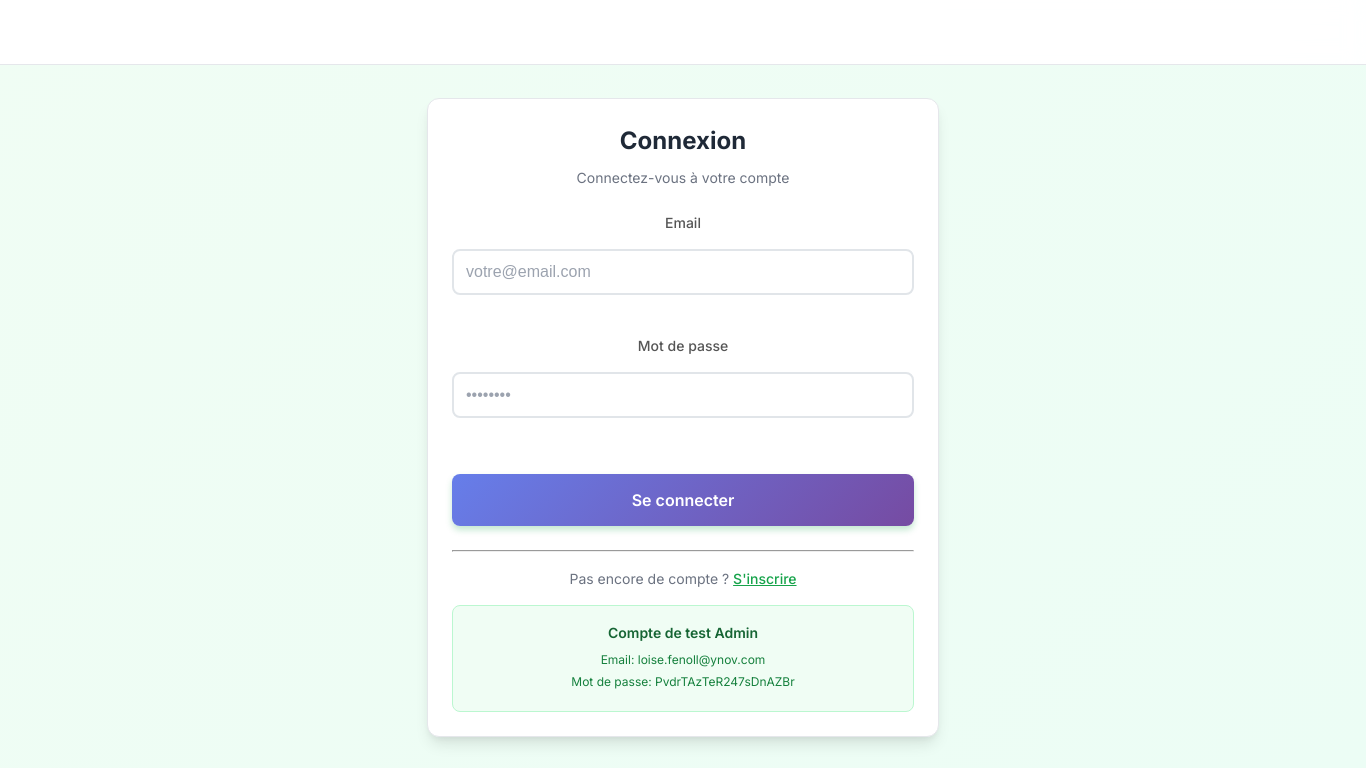
Scenario: Tests de gestion des utilisateurs › Tests avec backend disponible › Gestion des erreurs › Devrait gérer les erreurs de chargement des utilisateurs
Expected: the heading "Connexion" is shown, [620,126,746,154]
Se connecter en tant qu'admin
In the field with id "login-email": (683,272) [452,249,914,295], type "loise.fenoll@ynov.com"
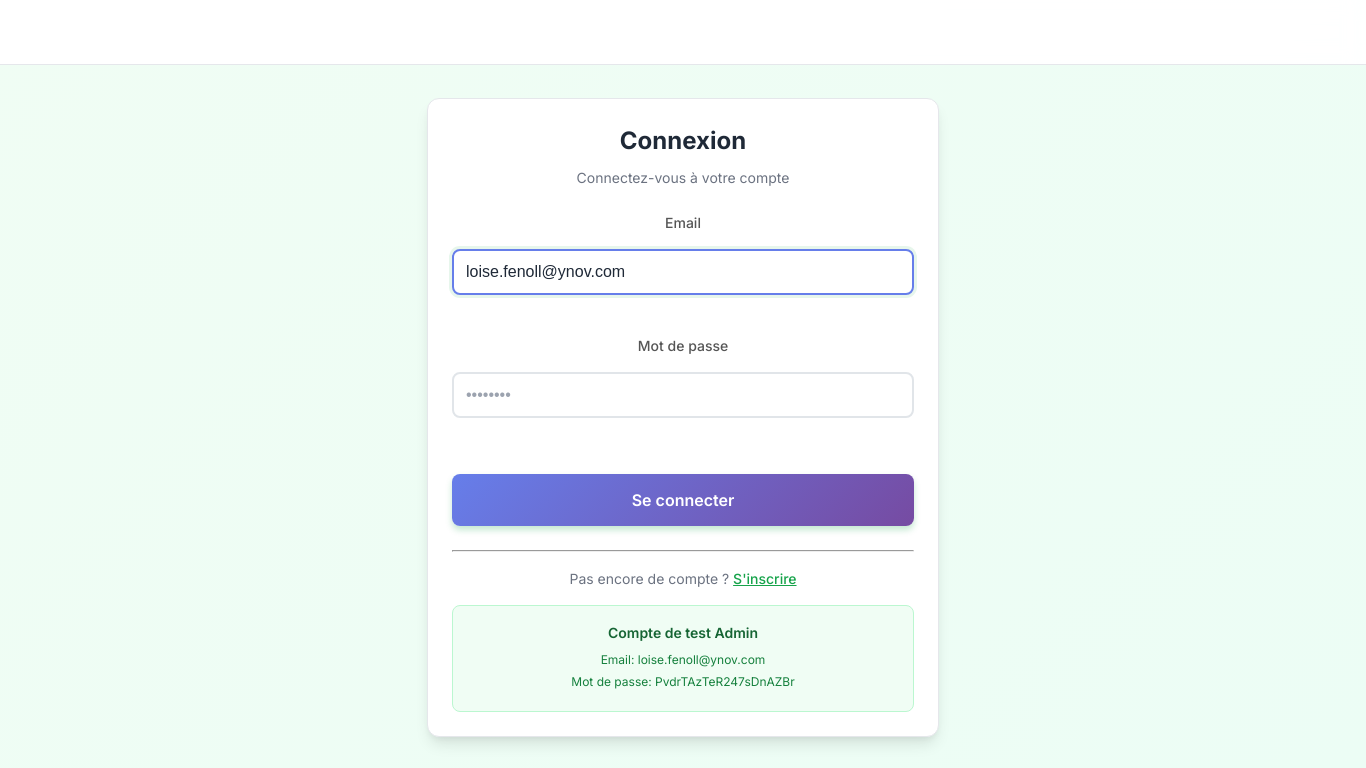
In the password field with id "login-password": (683,395) [452,372,914,418], type "PvdrTAzTeR247sDnAZBr"
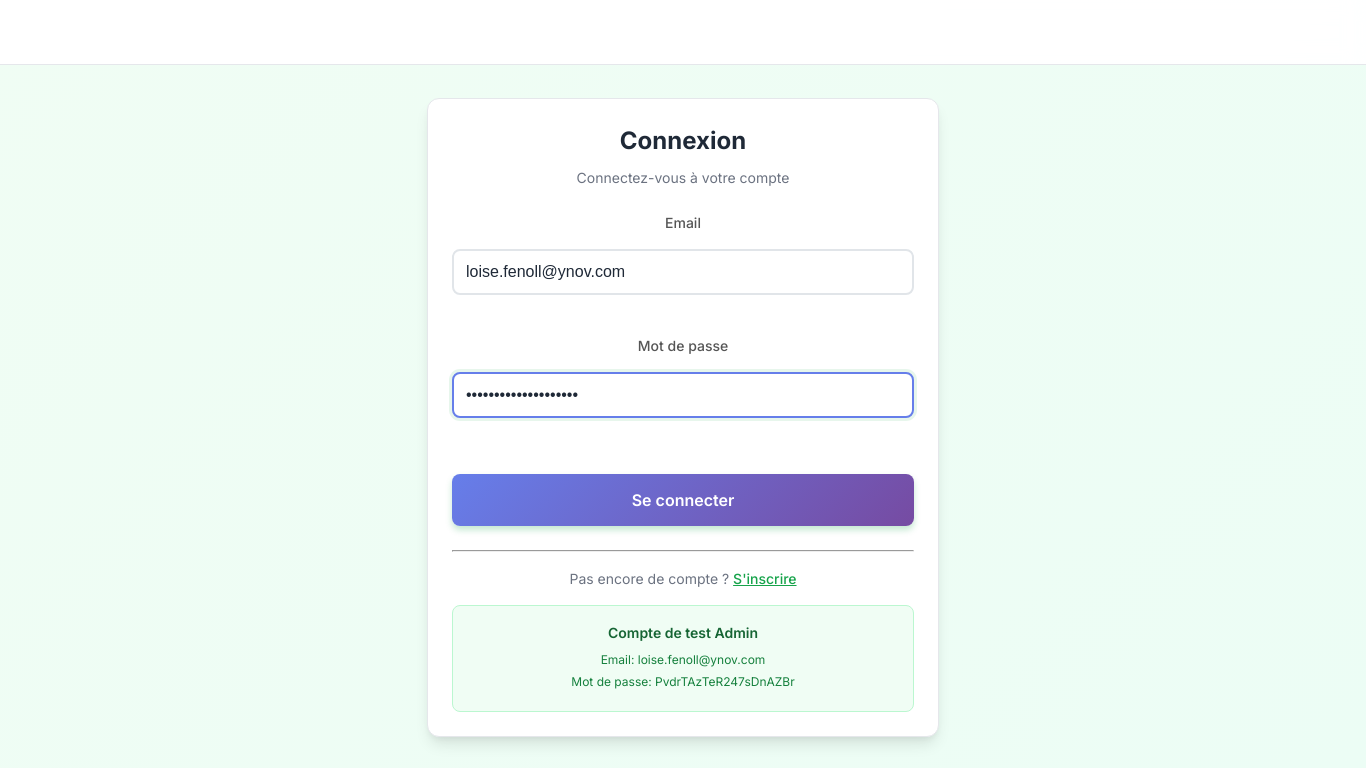
Click the submit button: (683,500) [452,474,914,526]
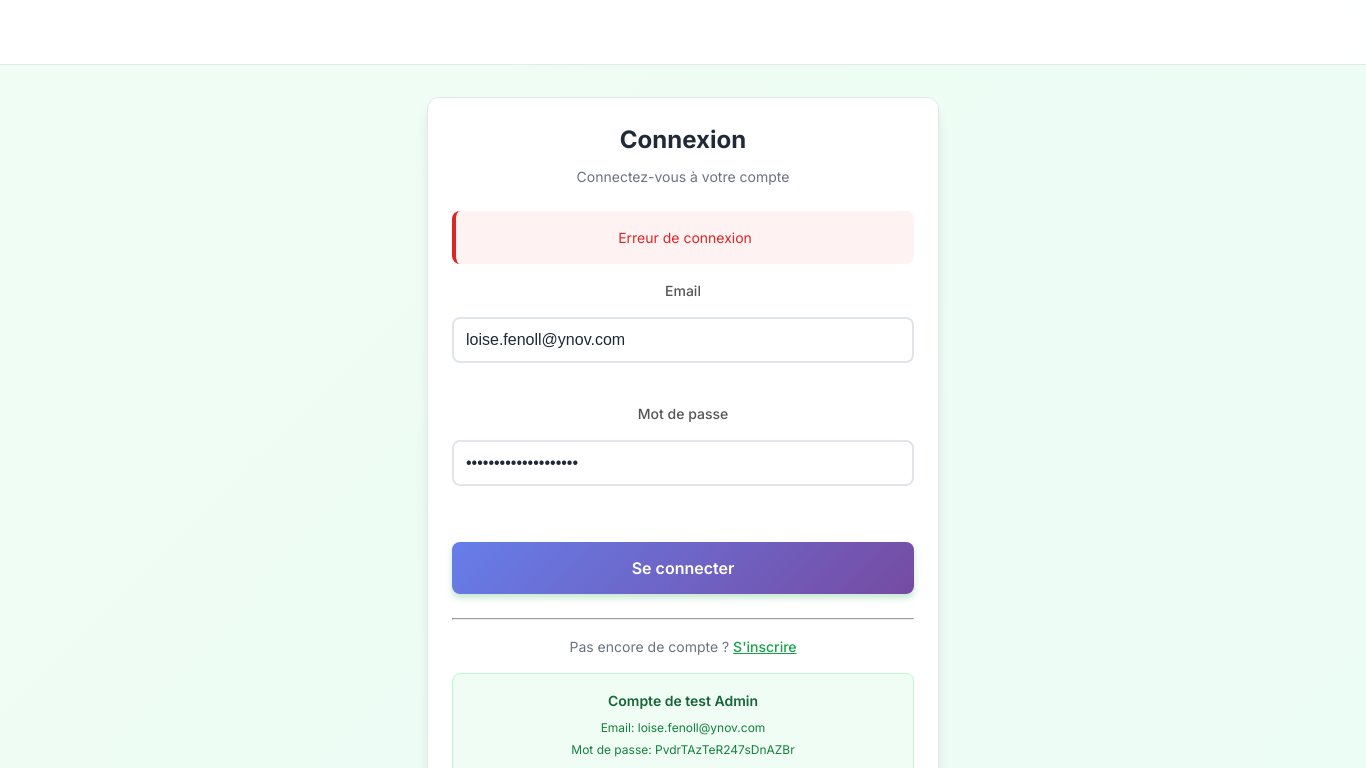
Expected: the text "Erreur de connexion" is shown, [452,211,914,264]
